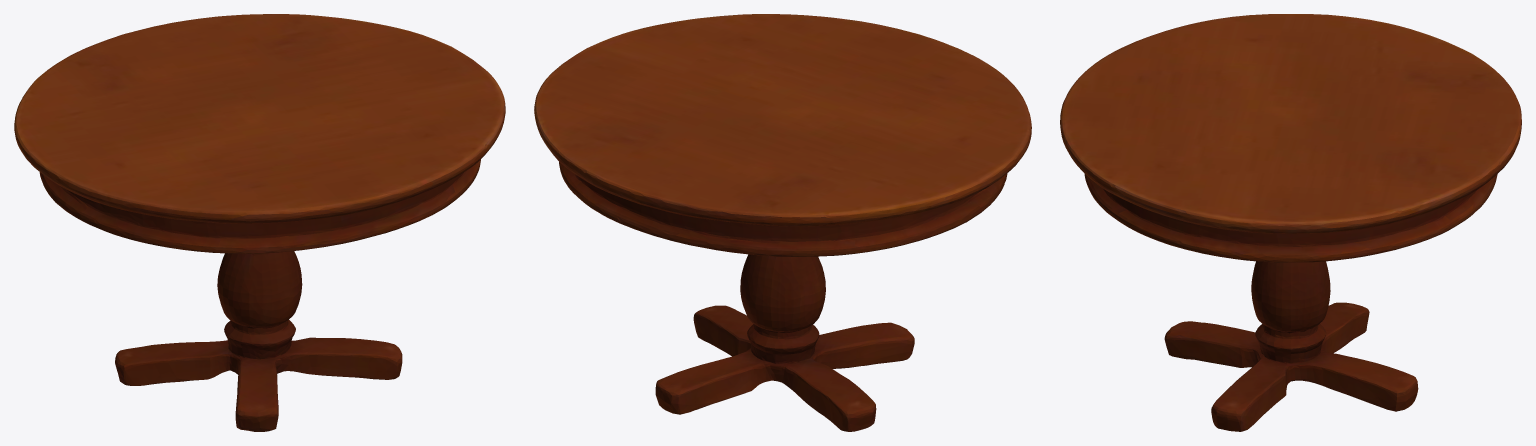
3 views of the same model, side by side, from view 1: azimuth 30°, elevation 25°; view 2: azimuth 150°, elevation 25°; view 3: azimuth 270°, elevation 25° (orthographic).
Visible parts, largest first — view 1: world; view 2: world; view 3: world.
Part boxes in pixels (x1=…): world: x1=14, y1=14, x2=505, y2=431; world: x1=534, y1=14, x2=1031, y2=431; world: x1=1060, y1=14, x2=1521, y2=431.
Size of the model in its own units: 0.9995 by 0.5817 by 0.9271.
Materials: 1 (1 with a texture image).
